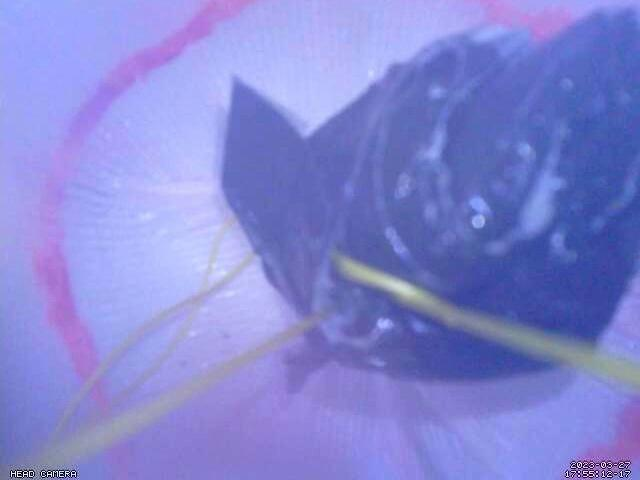head: (31, 1, 640, 480)
